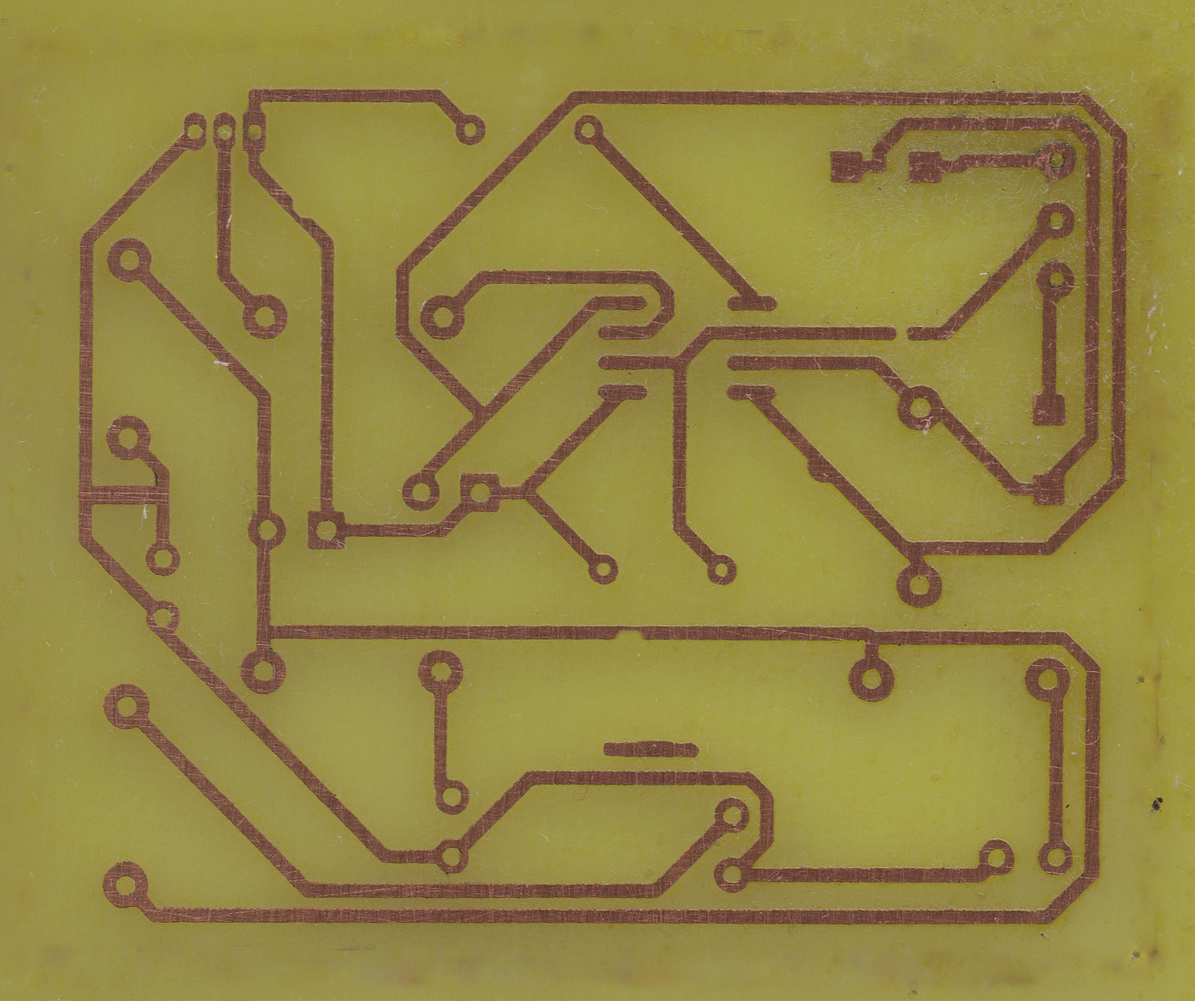mouse_bite: (614, 626, 646, 643), (290, 199, 312, 221)
open_circuit: (881, 326, 923, 341)
short: (79, 476, 169, 513)
spur: (805, 455, 834, 484)
spurious_copper: (603, 738, 703, 759)
